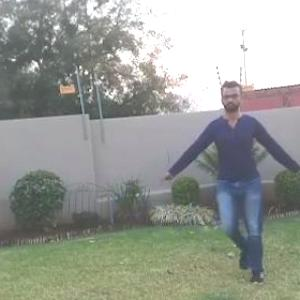land: (178, 93, 298, 258)
